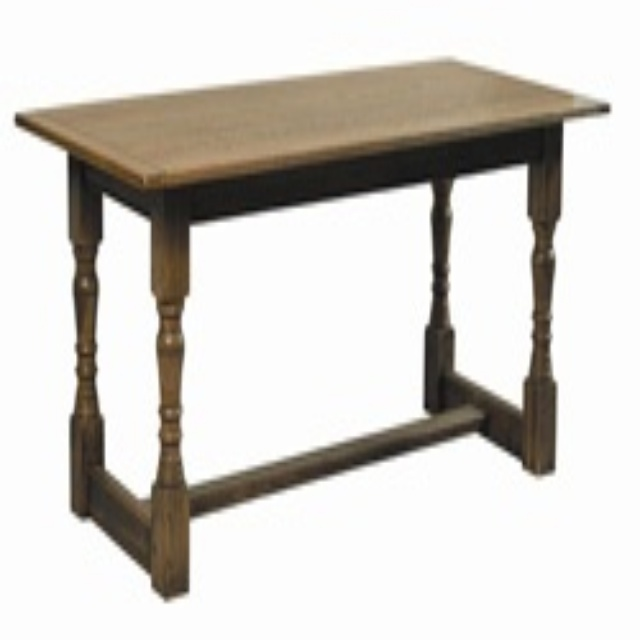obstacle: (15, 61, 607, 593)
